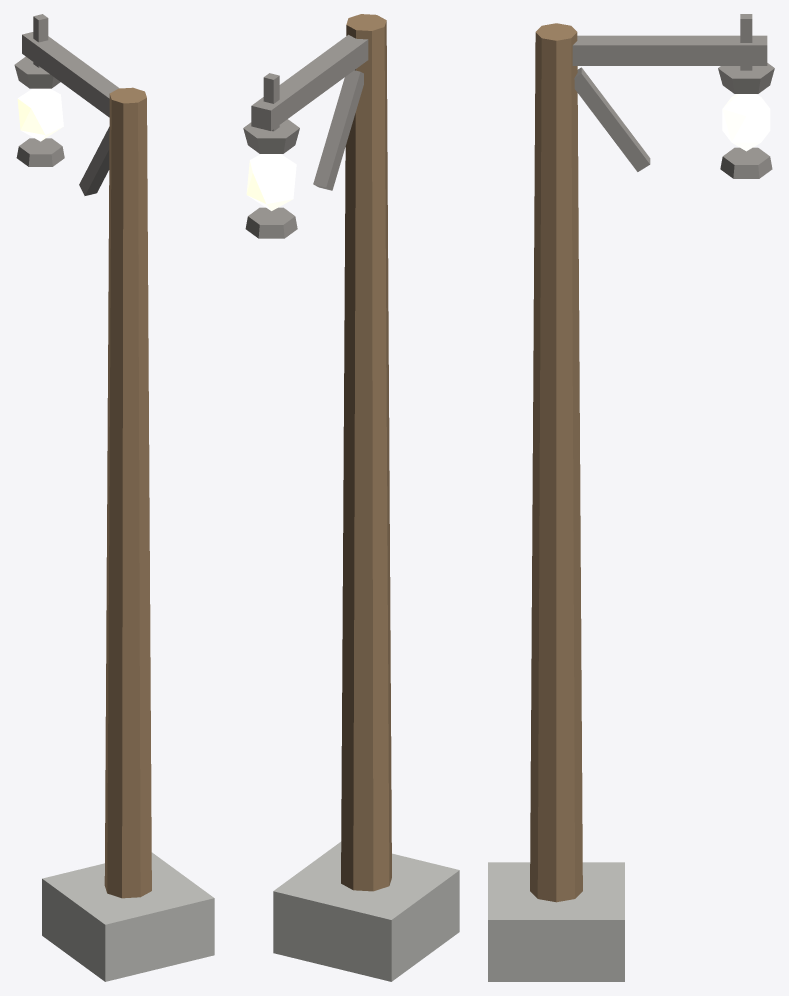
The model's file is village_lantern_post.glb.
3 views of the same model, side by side, from view 1: azimuth 30°, elevation 25°; view 2: azimuth 150°, elevation 25°; view 3: azimuth 270°, elevation 25° (orthographic). The views are drawn at different scales.
Parts seen in each view (by area): view 1: village_lantern_post; view 2: village_lantern_post; view 3: village_lantern_post.
Boxes of the visible parts, x1=… form: village_lantern_post: x1=14, y1=14, x2=214, y2=981; village_lantern_post: x1=243, y1=14, x2=459, y2=981; village_lantern_post: x1=488, y1=14, x2=774, y2=981.
Bounding box in the file's own units: 0.36 × 2.72 × 0.755.
